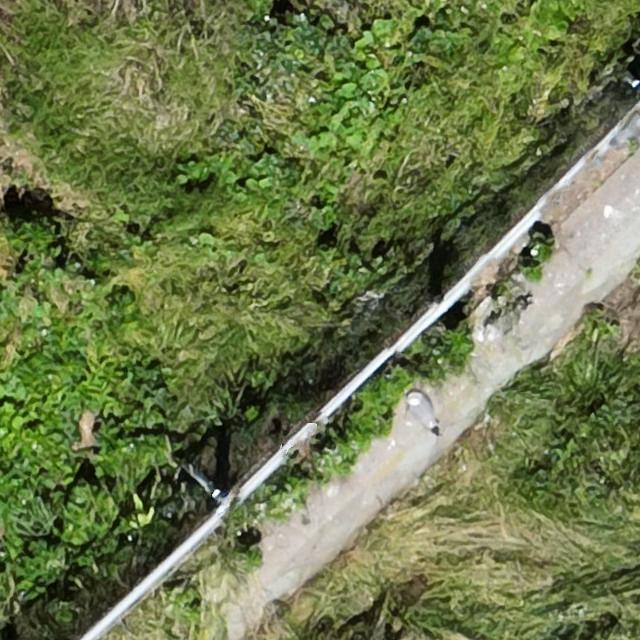umineko: (483, 300, 530, 342), (408, 391, 440, 434)
